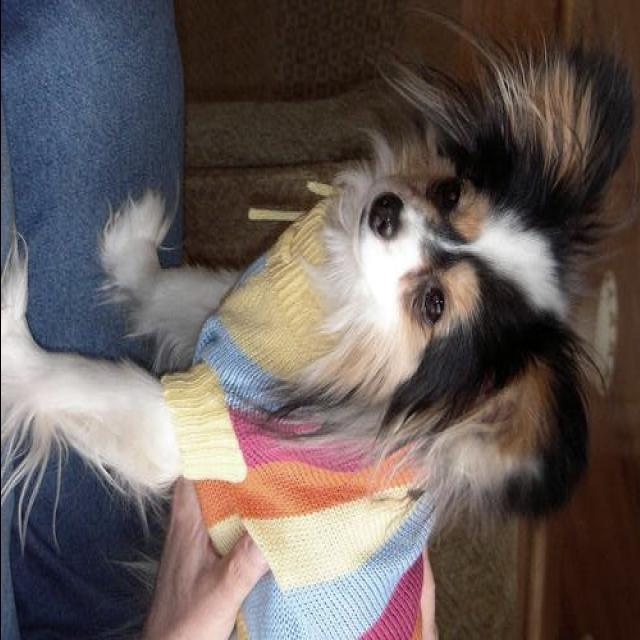papillon: (2, 34, 638, 636)
